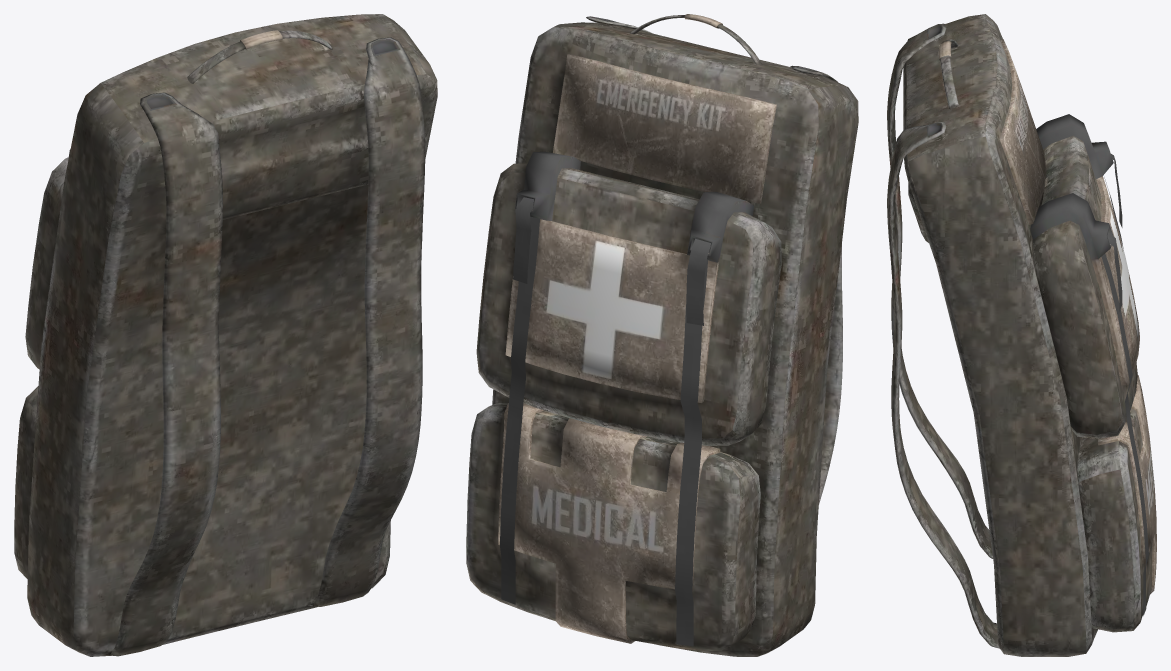
Rendered from medical1.glb.
3 views of the same model, side by side, from view 1: azimuth 30°, elevation 25°; view 2: azimuth 150°, elevation 25°; view 3: azimuth 270°, elevation 25° (orthographic). The views are drawn at different scales.
Parts seen in each view (by area): view 1: medical; view 2: medical; view 3: medical.
Boxes of the visible parts, left/top/right/bottom form: medical: left=14, top=14, right=437, bottom=656; medical: left=466, top=14, right=858, bottom=656; medical: left=887, top=14, right=1156, bottom=656.
Bounding box in the file's own units: 0.3803 × 0.7038 × 0.3113.
Materials: 1 (1 with a texture image).
